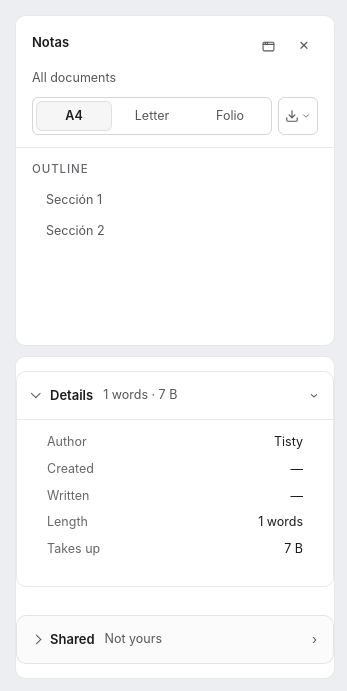
Test case: the shared row › offers nothing on someone else's document, and says why
The image size is (347, 691).
Expected: the text with class "side-gist" reads "Not yours", x1=105 y1=631 x2=162 y2=646
Click the heading "Shared Not yours" at (106, 639), box x1=50 y1=631 x2=162 y2=647
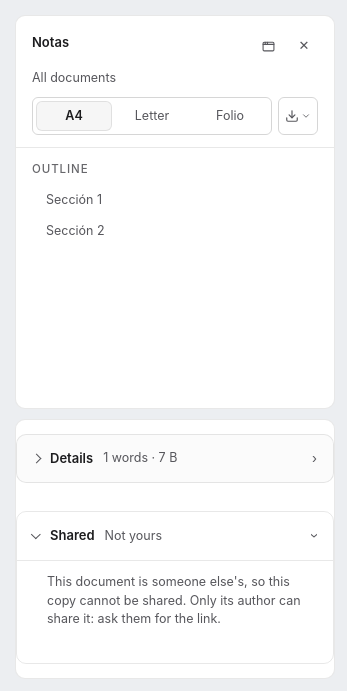
Expected: the text "This document is someone else's, so this copy cannot be shared. Only its author can share it: ask them for the link." is shown, x1=47 y1=574 x2=301 y2=626
